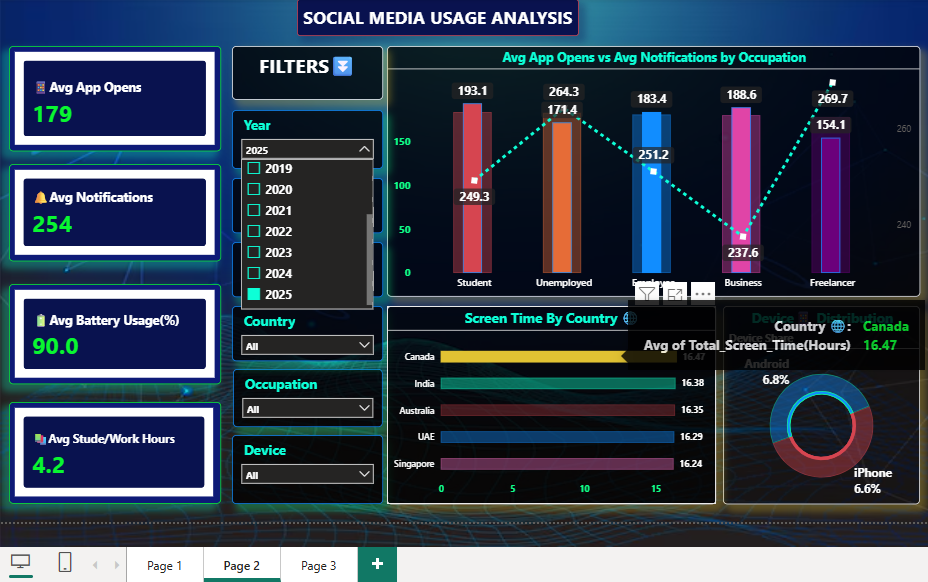

The page's visual inventory and layout, read from the dashboard file:
{"tool":"powerbi","page":{"name":"Page 2","canvas":[1280,720],"ordinal":1},"visuals":[{"type":"textbox","box":[410.2,0,388.1,50.9],"z":0},{"type":"cardVisual","fields":{"Data":["Avg(SocialMedia.App_Opens)"]},"box":[13.8,64.7,291.8,144.5],"z":1000},{"type":"cardVisual","fields":{"Data":["Avg(SocialMedia.Notifications)"]},"box":[13.8,227.1,291.8,133.5],"z":2000},{"type":"cardVisual","fields":{"Data":["Avg(SocialMedia.Battery_Usage_%)"]},"box":[13.8,392.3,291.8,137.6],"z":3000},{"type":"cardVisual","fields":{"Data":["SocialMedia.Avg Stude/Work Time(Hours)"]},"box":[13.8,554.7,291.8,140.4],"z":4000},{"type":"donutChart","title":"Device📱 Distribution","fields":{"Category":["SocialMedia.Device"],"Y":["CountNonNull(SocialMedia.User_ID)"]},"box":[996.5,422.5,271.1,272.5],"z":5000},{"type":"lineClusteredColumnComboChart","title":"Avg App Opens vs Avg Notifications by Occupation","fields":{"Category":["SocialMedia.Occupation"],"Y":["Avg(SocialMedia.App_Opens)"],"Y2":["Avg(SocialMedia.Notifications)"]},"box":[534,64.7,733.6,345.5],"z":6000},{"type":"slicer","fields":{"Values":["SocialMedia.Occupation"]},"box":[322.1,509.2,206.5,79.8],"z":7000},{"type":"textbox","box":[320.7,64.7,207.8,74.3],"z":8000},{"type":"slicer","fields":{"Values":["SocialMedia.Year"]},"box":[320.7,152.8,207.8,81.2],"z":9000},{"type":"slicer","fields":{"Values":["SocialMedia.Month"]},"box":[320.7,246.4,207.8,75.7],"z":10000},{"type":"slicer","fields":{"Values":["SocialMedia.Gender"]},"box":[320.7,334.5,207.8,75.7],"z":11000},{"type":"slicer","fields":{"Values":["SocialMedia.Country"]},"box":[320.7,422.5,207.8,75.7],"z":12000},{"type":"slicer","fields":{"Values":["SocialMedia.Device"]},"box":[320.7,600.1,207.8,95],"z":13000},{"type":"clusteredBarChart","title":"Screen Time By Country 🌐","fields":{"Category":["SocialMedia.Country"],"Y":["Avg(SocialMedia.Total_Screen_Time(Hours))"]},"box":[534,422.5,452.8,272.5],"z":14000}]}

Visuals, with their boxes on the page's 1280x720 design canvas (x1, y1, x2, y2). These are canvas units, not pixel positions in the 928x582 screenshot, which may show the page scaled, cropped or inside an application window:
textbox: bbox=[410, 0, 798, 51]
cardVisual - Avg(SocialMedia.App_Opens): bbox=[14, 65, 306, 209]
cardVisual - Avg(SocialMedia.Notifications): bbox=[14, 227, 306, 361]
cardVisual - Avg(SocialMedia.Battery_Usage_%): bbox=[14, 392, 306, 530]
cardVisual - SocialMedia.Avg Stude/Work Time(Hours): bbox=[14, 555, 306, 695]
"Device📱 Distribution" donutChart: bbox=[996, 422, 1268, 695]
"Avg App Opens vs Avg Notifications by Occupation" lineClusteredColumnComboChart: bbox=[534, 65, 1268, 410]
slicer - SocialMedia.Occupation: bbox=[322, 509, 529, 589]
textbox: bbox=[321, 65, 528, 139]
slicer - SocialMedia.Year: bbox=[321, 153, 528, 234]
slicer - SocialMedia.Month: bbox=[321, 246, 528, 322]
slicer - SocialMedia.Gender: bbox=[321, 334, 528, 410]
slicer - SocialMedia.Country: bbox=[321, 422, 528, 498]
slicer - SocialMedia.Device: bbox=[321, 600, 528, 695]
"Screen Time By Country 🌐" clusteredBarChart: bbox=[534, 422, 987, 695]
